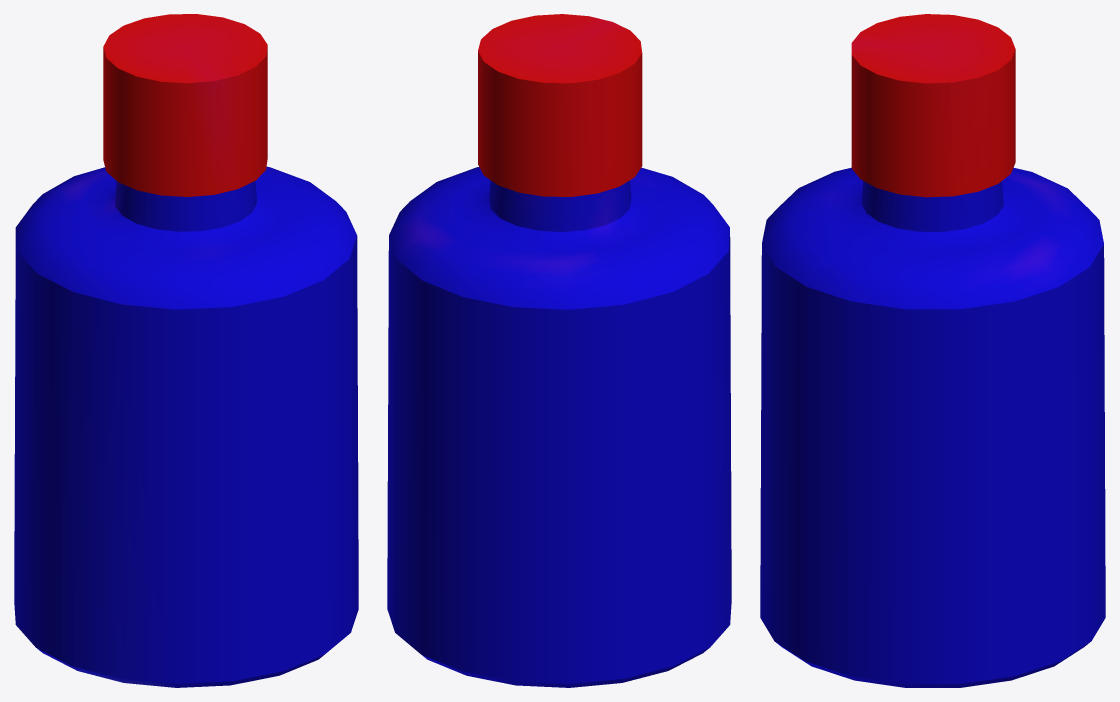
Rendered from samponek.fbx.
3 views of the same model, side by side, from view 1: azimuth 30°, elevation 25°; view 2: azimuth 150°, elevation 25°; view 3: azimuth 270°, elevation 25° (orthographic).
Visible parts, largest first — view 1: Sampoo; view 2: Sampoo; view 3: Sampoo.
Boxes of the visible parts, box(x1,y1,x2,y2) form: Sampoo: box(14, 14, 358, 687); Sampoo: box(387, 14, 731, 687); Sampoo: box(760, 14, 1105, 687).
Size of the model in its own units: 687 by 1256 by 690.
